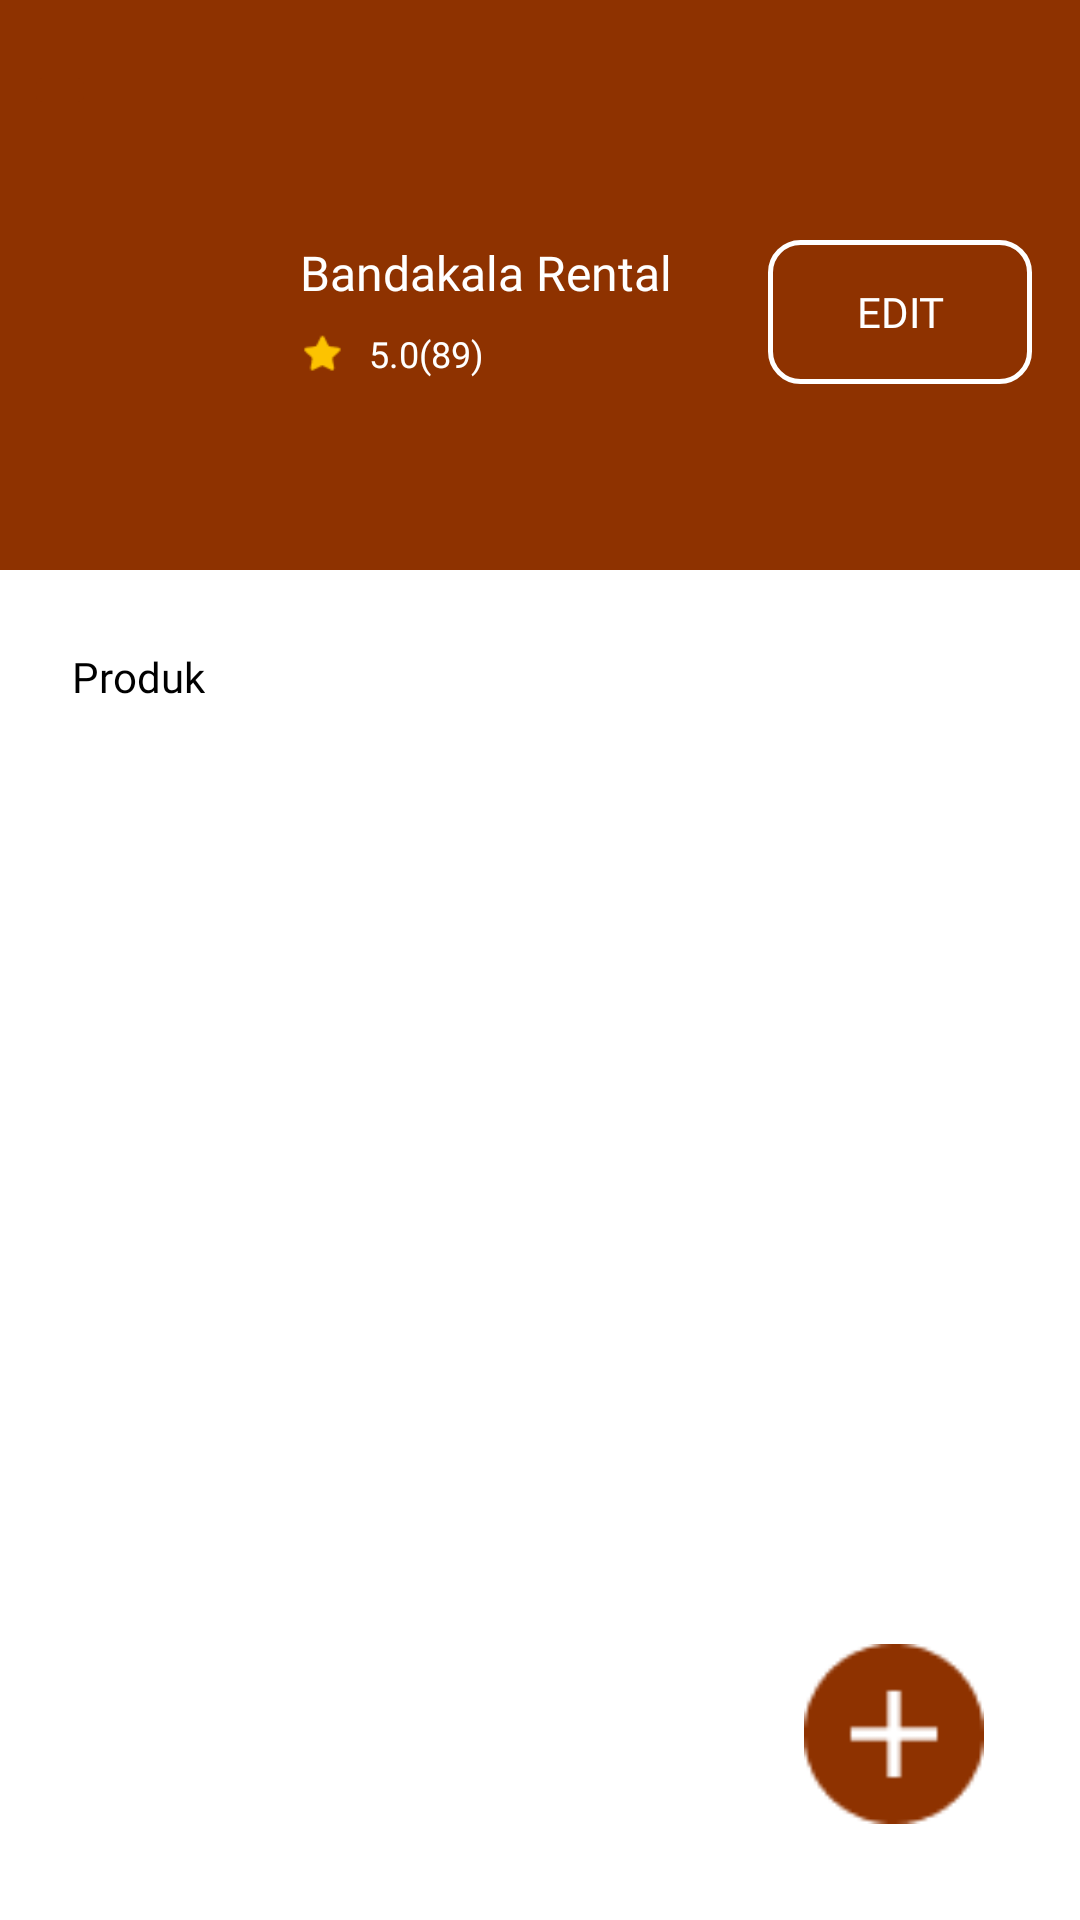

Icon click points for this 1080px x 1920px phone screenshot, format point (x, y):
star: point (322, 353)
Tambah Produk: point (894, 1734)
